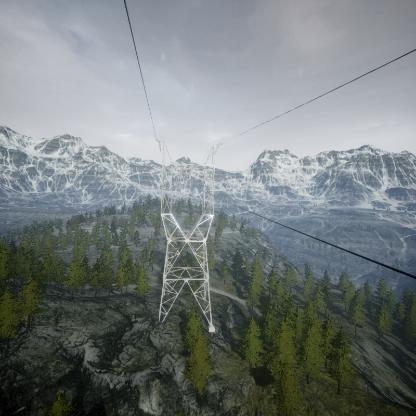tower: (150, 135, 220, 335)
